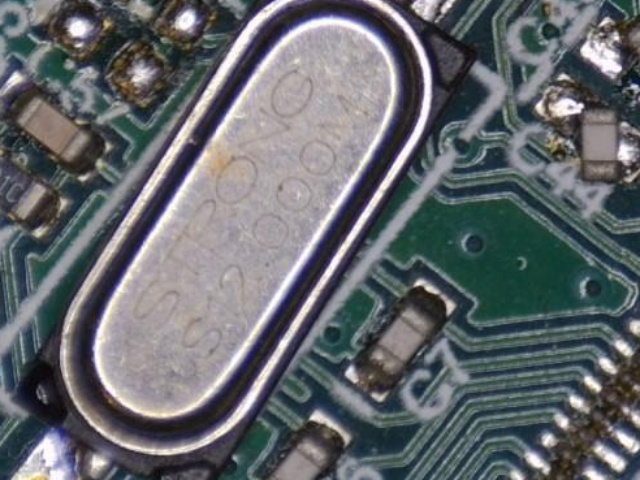pcb_defect: (0, 0, 482, 480), (533, 72, 640, 183), (577, 10, 640, 126), (640, 0, 640, 70)
